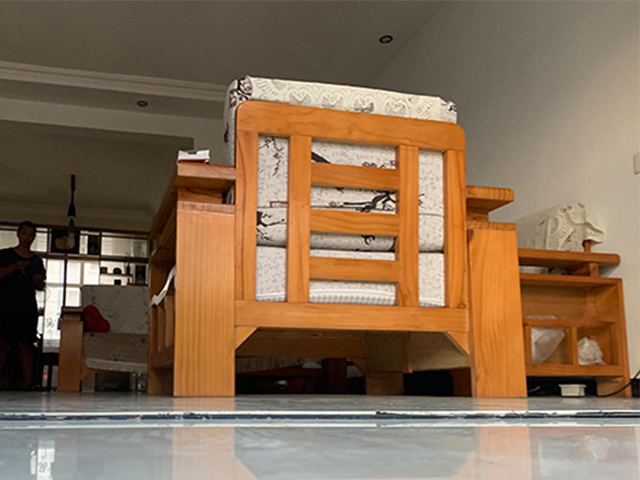sofa: (143, 74, 529, 399), (515, 200, 633, 399), (56, 284, 149, 394)
wire: (592, 365, 640, 399)
